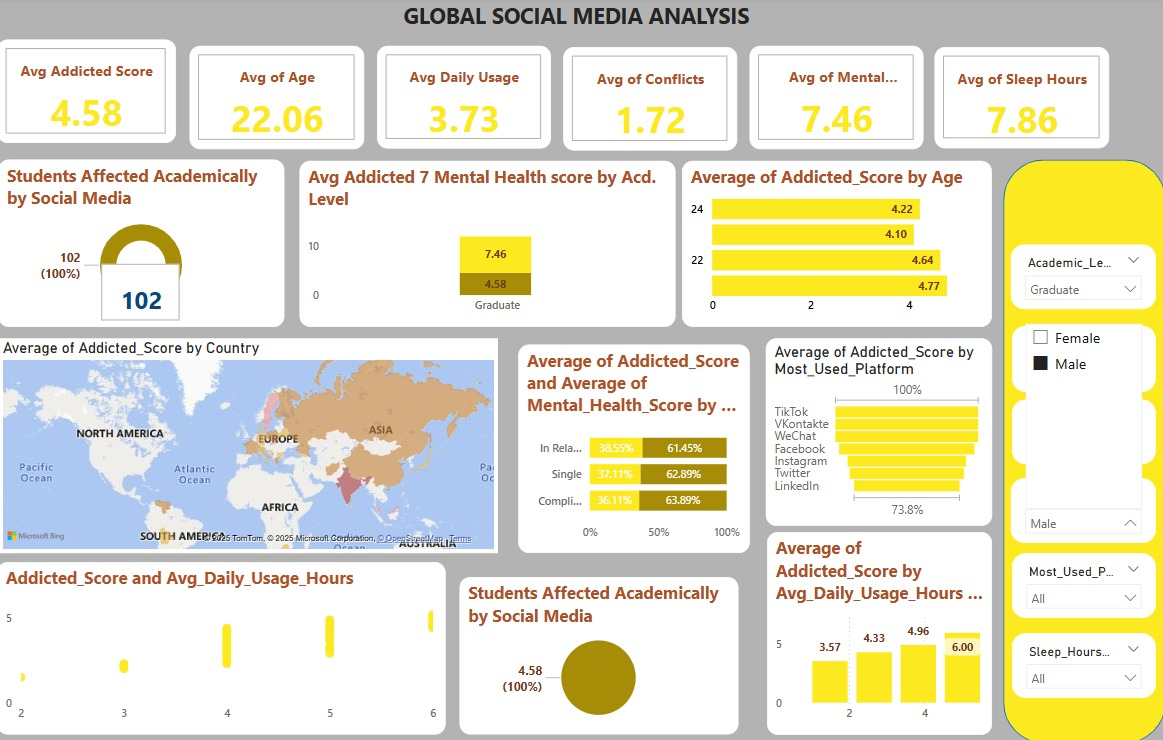

This screenshot's page, from the dashboard's own definition file:
{"tool":"powerbi","page":{"name":"Global Analysis","canvas":[1300,830],"ordinal":0},"visuals":[{"type":"shape","box":[1119.6,180.8,180.8,649.5],"z":0},{"type":"cardVisual","fields":{"Data":["Avg(Students Social Media Addiction.Addicted_Score)"]},"box":[0,47.3,198.9,115.4],"z":1000},{"type":"cardVisual","fields":{"Data":["Avg(Students Social Media Addiction.Age)"]},"box":[214.2,54.2,194.7,115.4],"z":2000},{"type":"cardVisual","fields":{"Data":["Avg(Students Social Media Addiction.Avg_Daily_Usage_Hours)"]},"box":[422.8,54.2,193.3,114],"z":3000},{"type":"cardVisual","fields":{"Data":["Avg(Students Social Media Addiction.Conflicts_Over_Social_Media)"]},"box":[630,55.6,193.3,115.4],"z":4000},{"type":"cardVisual","fields":{"Data":["Avg(Students Social Media Addiction.Mental_Health_Score)"]},"box":[837.2,54.2,193.3,115.4],"z":5000},{"type":"cardVisual","fields":{"Data":["Avg(Students Social Media Addiction.Sleep_Hours_Per_Night)"]},"box":[1043.1,55.6,194.7,112.7],"z":6000},{"type":"columnChart","title":"Avg Addicted 7 Mental Health score by Acd. Level","fields":{"Category":["Students Social Media Addiction.Academic_Level"],"Y":["Avg(Students Social Media Addiction.Addicted_Score)","Avg(Students Social Media Addiction.Mental_Health_Score)"]},"box":[336.6,182.2,418.6,185],"z":7000},{"type":"donutChart","title":"Students Affected Academically by Social Media","fields":{"Category":["Students Social Media Addiction.Affects_Academic_Performance"],"Y":["CountNonNull(Students Social Media Addiction.Student_ID)"]},"box":[1.4,180.8,318.5,186.4],"z":8000},{"type":"cardVisual","fields":{"Data":["Count(Students Social Media Addiction.Student_ID)"]},"box":[100.1,292.1,97.4,75.1],"z":9000},{"type":"clusteredBarChart","fields":{"Category":["Students Social Media Addiction.Age"],"Y":["Avg(Students Social Media Addiction.Addicted_Score)"]},"box":[762.1,182.2,344.9,185],"z":10000},{"type":"slicer","fields":{"Values":["Students Social Media Addiction.Academic_Level"]},"box":[1127.9,275.4,161.3,72.3],"z":11000},{"type":"slicer","fields":{"Values":["Students Social Media Addiction.Affects_Academic_Performance"]},"box":[1129.3,365.8,159.9,73.7],"z":12000},{"type":"slicer","fields":{"Values":["Students Social Media Addiction.Country"]},"box":[1129.3,447.8,159.9,72.3],"z":13000},{"type":"slicer","fields":{"Values":["Students Social Media Addiction.Gender"]},"box":[1127.9,535.4,161.3,72.3],"z":14000},{"type":"slicer","fields":{"Values":["Students Social Media Addiction.Most_Used_Platform"]},"box":[1129.3,618.9,159.9,72.3],"z":15000},{"type":"filledMap","fields":{"Category":["Students Social Media Addiction.Country"]},"box":[1.4,379.7,556.3,239.2],"z":16000},{"type":"pieChart","title":"Students Affected Academically by Social Media","fields":{"Category":["Students Social Media Addiction.Gender"],"Y":["Avg(Students Social Media Addiction.Addicted_Score)"]},"box":[514.6,645.3,310.1,175.2],"z":17000},{"type":"funnel","fields":{"Category":["Students Social Media Addiction.Most_Used_Platform"],"Y":["Avg(Students Social Media Addiction.Addicted_Score)"]},"box":[855.3,379.7,251.7,208.6],"z":18000},{"type":"hundredPercentStackedBarChart","fields":{"Category":["Students Social Media Addiction.Relationship_Status"],"Y":["Avg(Students Social Media Addiction.Addicted_Score)","Avg(Students Social Media Addiction.Mental_Health_Score)"]},"box":[579.9,386.6,257.3,232.3],"z":19000},{"type":"lineStackedColumnComboChart","fields":{"Y":["Avg(Students Social Media Addiction.Addicted_Score)"],"Category":["Students Social Media Addiction.Avg_Daily_Usage_Hours (bins)"]},"box":[856.7,595.2,250.3,225.3],"z":20000},{"type":"scatterChart","fields":{"X":["Students Social Media Addiction.Addicted_Score"],"Y":["Students Social Media Addiction.Avg_Daily_Usage_Hours"]},"box":[0,628.6,499.3,191.9],"z":21000},{"type":"textbox","box":[0,0,1289.2,47.3],"z":22000},{"type":"slicer","fields":{"Values":["Students Social Media Addiction.Sleep_Hours_Per_Night"]},"box":[1129.3,707.9,159.9,72.3],"z":23000}]}

Visuals, with their boxes in screenshot pixels (x1, y1, x2, y2), scaled from the page's 1300x830 canvas onto the 1163x740 screenshot:
shape: bbox(1002, 161, 1162, 739)
cardVisual - Avg(Students Social Media Addiction.Addicted_Score): bbox(0, 42, 178, 145)
cardVisual - Avg(Students Social Media Addiction.Age): bbox(192, 48, 366, 151)
cardVisual - Avg(Students Social Media Addiction.Avg_Daily_Usage_Hours): bbox(378, 48, 551, 150)
cardVisual - Avg(Students Social Media Addiction.Conflicts_Over_Social_Media): bbox(564, 50, 737, 152)
cardVisual - Avg(Students Social Media Addiction.Mental_Health_Score): bbox(749, 48, 922, 151)
cardVisual - Avg(Students Social Media Addiction.Sleep_Hours_Per_Night): bbox(933, 50, 1107, 150)
"Avg Addicted 7 Mental Health score by Acd. Level" columnChart: bbox(301, 162, 676, 327)
"Students Affected Academically by Social Media" donutChart: bbox(1, 161, 286, 327)
cardVisual - Count(Students Social Media Addiction.Student_ID): bbox(90, 260, 177, 327)
clusteredBarChart - Students Social Media Addiction.Age x Avg(Students Social Media Addiction.Addicted_Score): bbox(682, 162, 990, 327)
slicer - Students Social Media Addiction.Academic_Level: bbox(1009, 246, 1153, 310)
slicer - Students Social Media Addiction.Affects_Academic_Performance: bbox(1010, 326, 1153, 392)
slicer - Students Social Media Addiction.Country: bbox(1010, 399, 1153, 464)
slicer - Students Social Media Addiction.Gender: bbox(1009, 477, 1153, 542)
slicer - Students Social Media Addiction.Most_Used_Platform: bbox(1010, 552, 1153, 616)
filledMap - Students Social Media Addiction.Country: bbox(1, 339, 499, 552)
"Students Affected Academically by Social Media" pieChart: bbox(460, 575, 738, 732)
funnel - Students Social Media Addiction.Most_Used_Platform x Avg(Students Social Media Addiction.Addicted_Score): bbox(765, 339, 990, 525)
hundredPercentStackedBarChart - Students Social Media Addiction.Relationship_Status x Avg(Students Social Media Addiction.Addicted_Score): bbox(519, 345, 749, 552)
lineStackedColumnComboChart - Avg(Students Social Media Addiction.Addicted_Score) x Students Social Media Addiction.Avg_Daily_Usage_Hours (bins): bbox(766, 531, 990, 732)
scatterChart - Students Social Media Addiction.Addicted_Score x Students Social Media Addiction.Avg_Daily_Usage_Hours: bbox(0, 560, 447, 732)
textbox: bbox(0, 0, 1153, 42)
slicer - Students Social Media Addiction.Sleep_Hours_Per_Night: bbox(1010, 631, 1153, 696)
